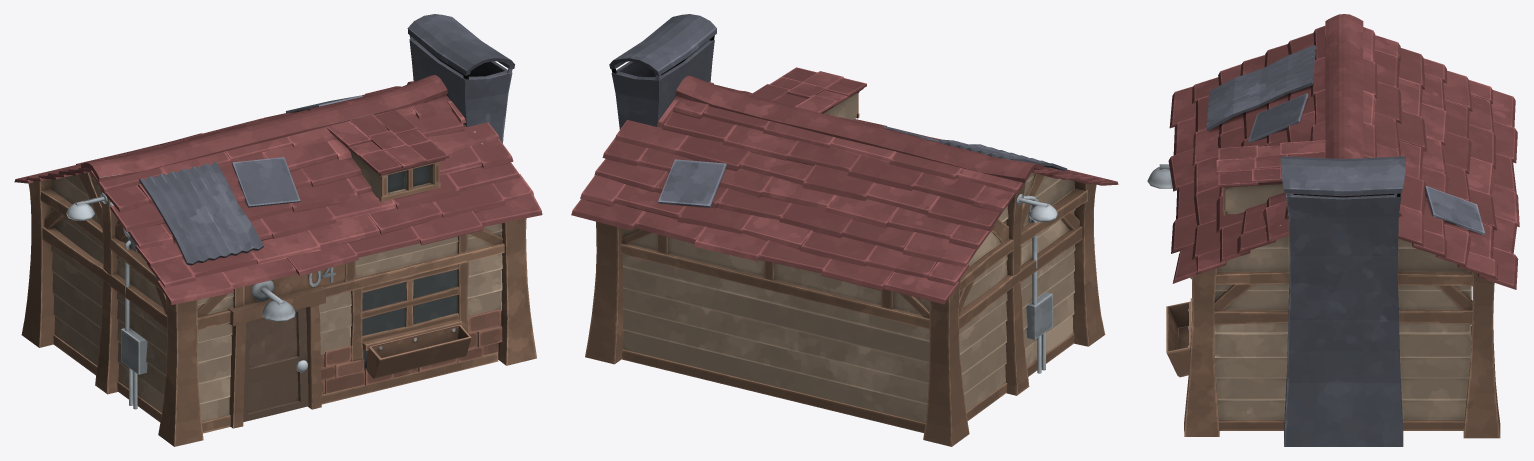
The model's file is PlayerHouseDemo.glb.
The picture shows the model from 3 angles, left to right: view 1: azimuth 30°, elevation 25°; view 2: azimuth 150°, elevation 25°; view 3: azimuth 270°, elevation 25°; orthographic projection. The views are drawn at different scales.
Parts seen in each view (by area): view 1: PlayerHouse; view 2: PlayerHouse; view 3: PlayerHouse.
Part boxes in pixels (x1,y1,x2,y2): PlayerHouse: (14,14,542,446); PlayerHouse: (571,14,1118,446); PlayerHouse: (1147,14,1519,446).
Bounding box in the file's own units: 8.12 × 4.95 × 6.06.
1 material, 1 textured.
